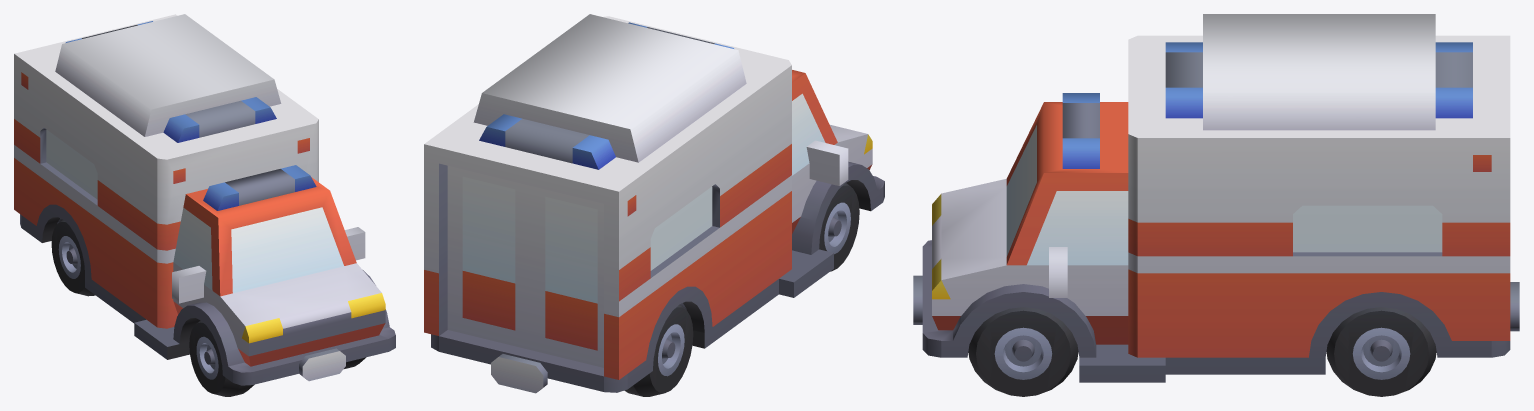
The model's file is kenney-car-ambulance.glb.
3 views of the same model, side by side, from view 1: azimuth 30°, elevation 25°; view 2: azimuth 150°, elevation 25°; view 3: azimuth 270°, elevation 25° (orthographic). The views are drawn at different scales.
Visible parts, largest first — view 1: body; view 2: body; view 3: body.
Boxes of the visible parts, x1,y1,x2,y2 form: body: [14, 14, 395, 396]; body: [424, 14, 884, 396]; body: [913, 14, 1519, 396].
Bounding box in the file's own units: 1.5 × 1.8 × 3.25.
1 material, 1 textured.
